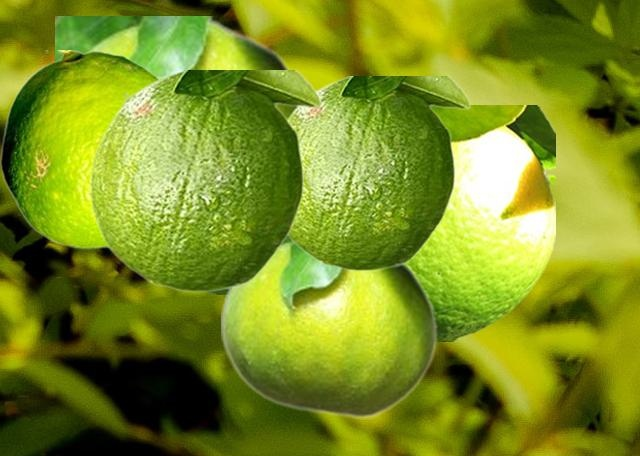dalandan: (89, 70, 321, 291), (221, 239, 437, 418), (286, 76, 470, 270), (408, 105, 554, 340), (0, 50, 159, 248), (55, 16, 294, 116)
